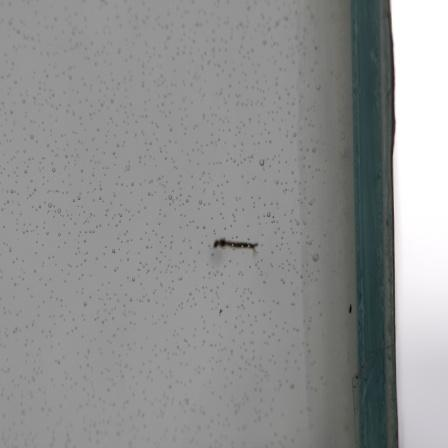Jentik-Nyamuk: (208, 230, 262, 258)
